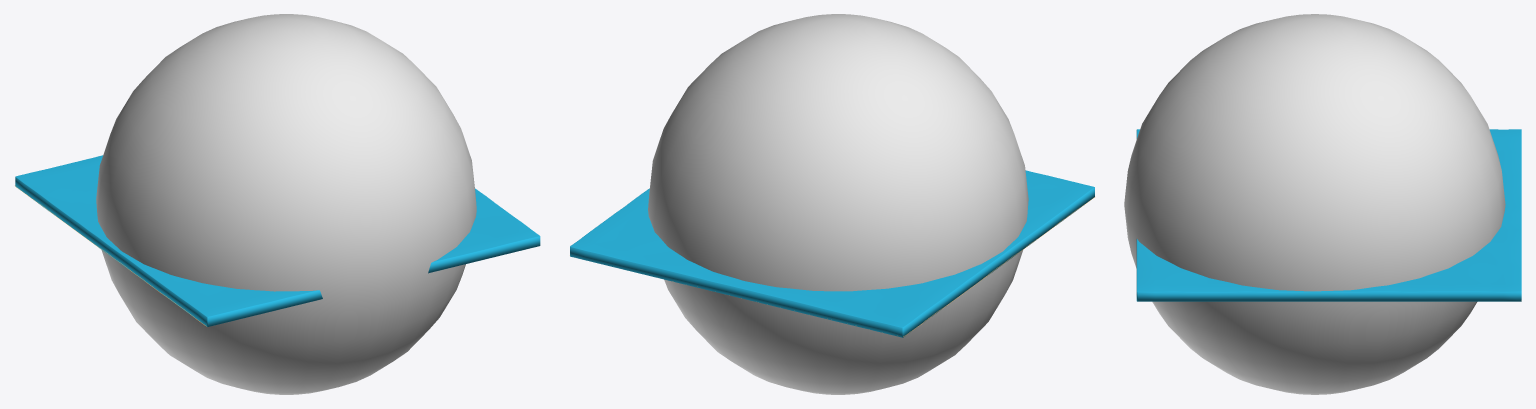
File: treasure chest.fbx
The picture shows the model from 3 angles, left to right: view 1: azimuth 30°, elevation 25°; view 2: azimuth 150°, elevation 25°; view 3: azimuth 270°, elevation 25°; orthographic projection.
Visible parts, largest first — view 1: Sky, water; view 2: Sky, water; view 3: Sky, water.
Boxes of the visible parts, x1,y1,x2,y2 form: Sky: (96, 14, 476, 394); water: (15, 155, 540, 326); Sky: (648, 14, 1028, 394); water: (570, 170, 1094, 337); Sky: (1124, 14, 1505, 394); water: (1136, 129, 1521, 301).
Size of the model in its own units: 4245 by 4200 by 4379.
